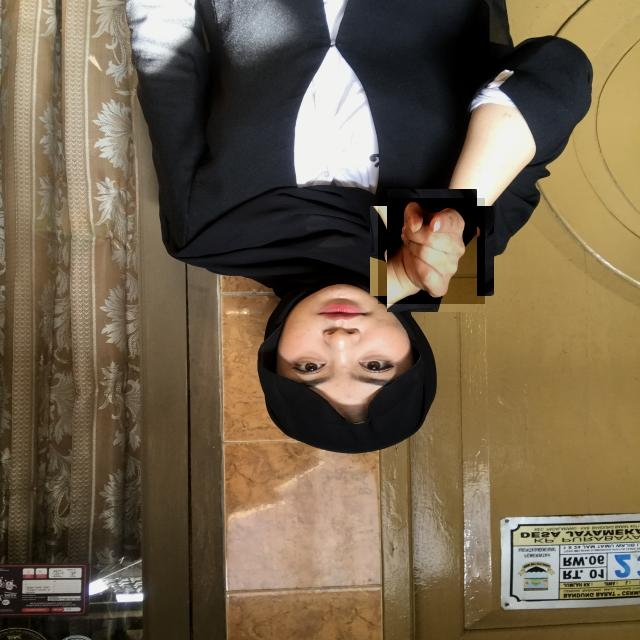kamu: (378, 198, 485, 304)
